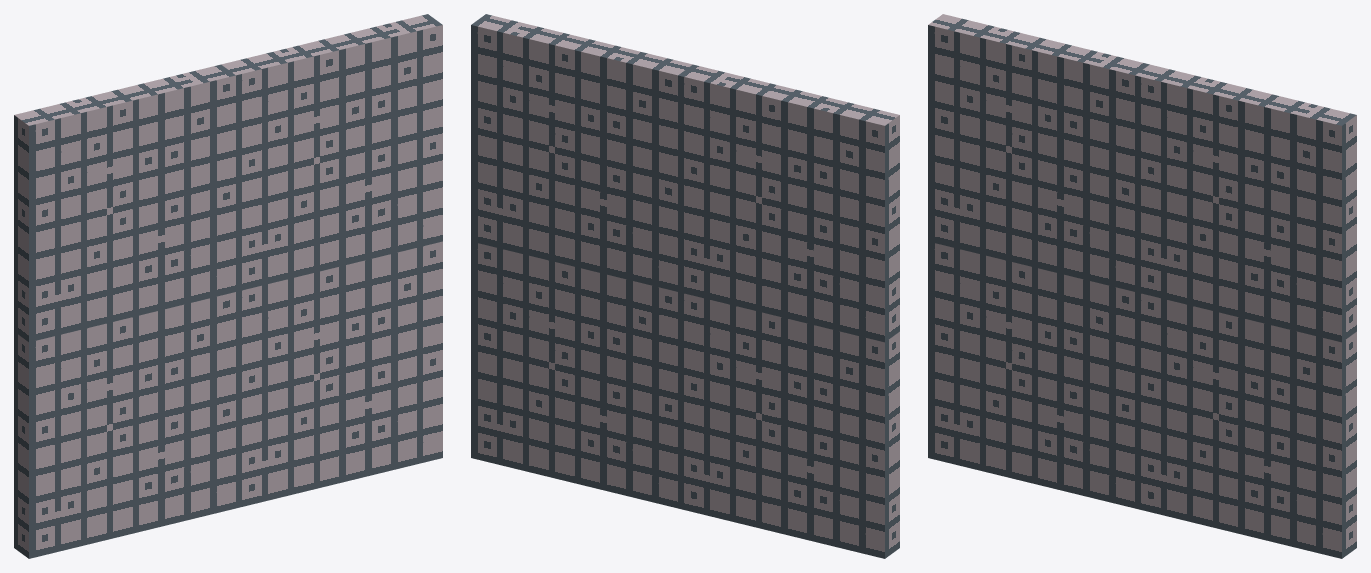
File: wall_textured_e_4_col.gltf
3 renders of one model, left to right at view 1: azimuth 30°, elevation 25°; view 2: azimuth 150°, elevation 25°; view 3: azimuth 330°, elevation 25°, orthographic.
Visible parts, largest first — view 1: wall_textured_e_4_col; view 2: wall_textured_e_4_col; view 3: wall_textured_e_4_col.
Part boxes in pixels (left/top/right/bottom): wall_textured_e_4_col: left=14, top=14, right=442, bottom=558; wall_textured_e_4_col: left=471, top=14, right=899, bottom=558; wall_textured_e_4_col: left=928, top=14, right=1356, bottom=558.
Bounding box in the file's own units: 4 × 4 × 0.25.
1 material, 1 textured.
